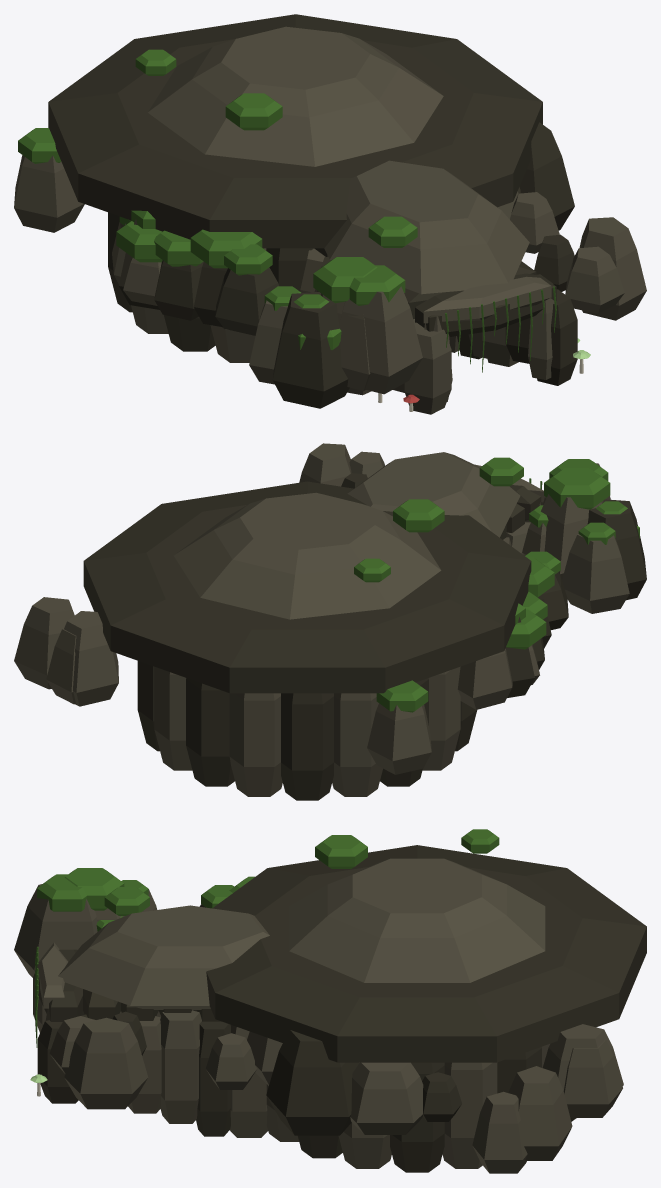
Rendered from cave_forest.glb.
3 renders of one model, top to bottom at view 1: azimuth 30°, elevation 25°; view 2: azimuth 150°, elevation 25°; view 3: azimuth 270°, elevation 25°, orthographic. The views are drawn at different scales.
Visible parts, largest first — view 1: cave_forest; view 2: cave_forest; view 3: cave_forest.
Part boxes in pixels (box(x1,y1,x2,y2)): cave_forest: box(14, 14, 646, 414); cave_forest: box(14, 443, 646, 800); cave_forest: box(14, 829, 646, 1173).
Bounding box in the file's own units: 40.33 × 19.83 × 50.2.
